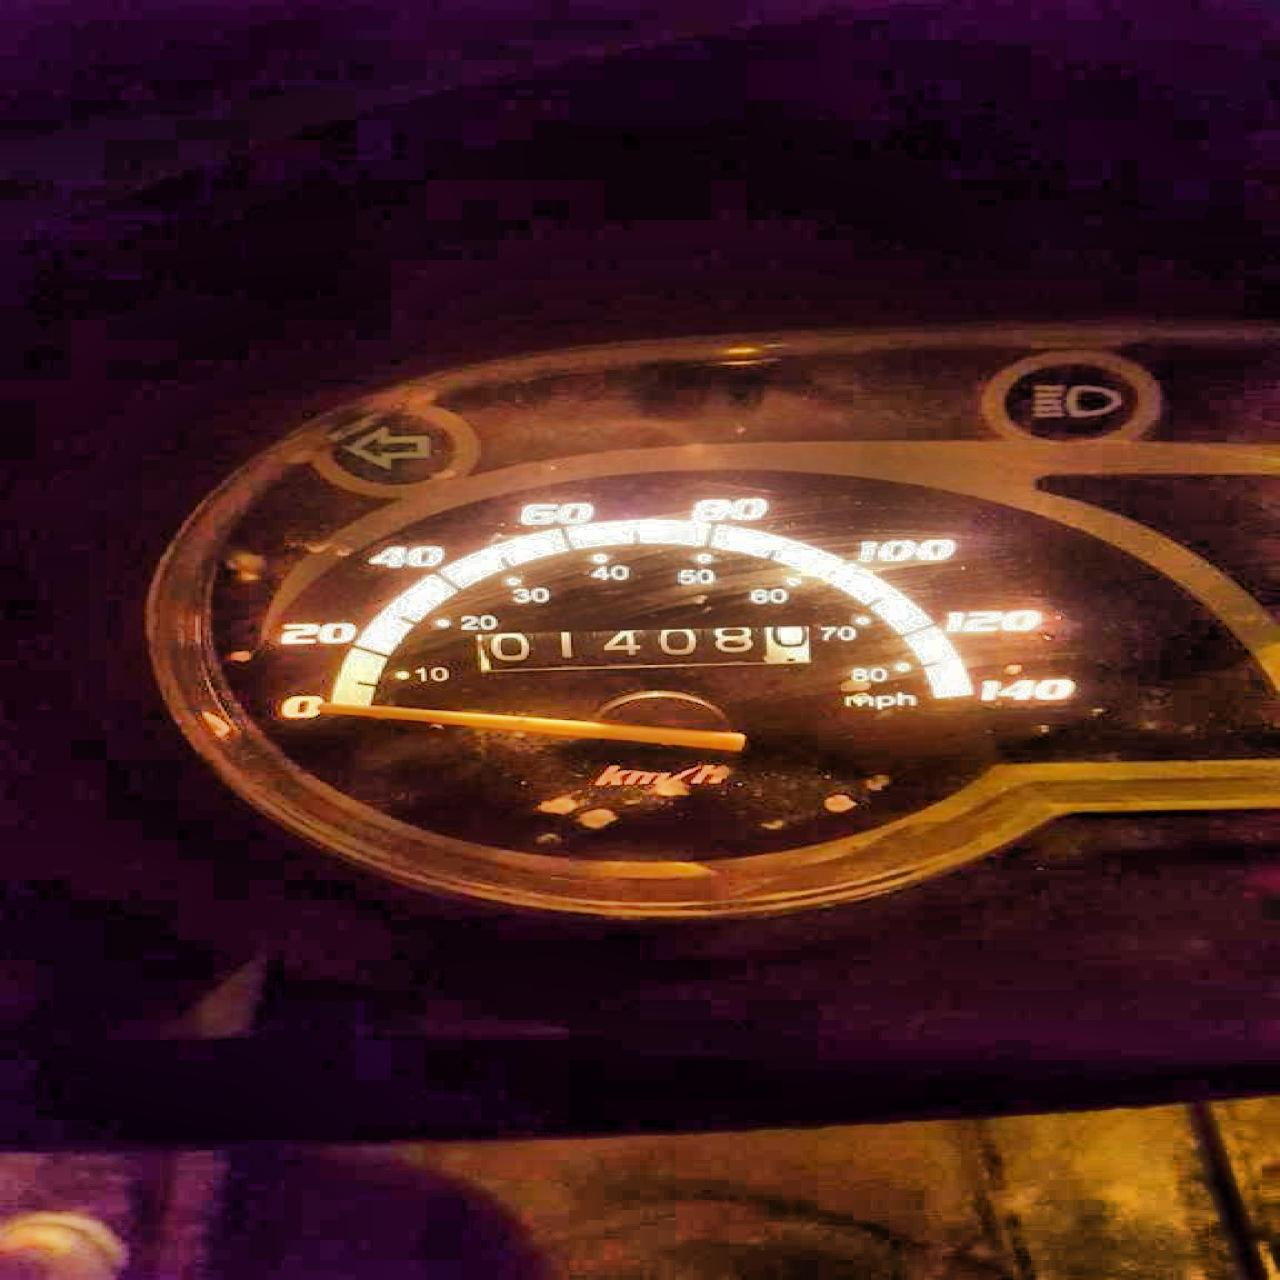0: (651, 626, 700, 658), (484, 631, 533, 660), (767, 624, 811, 648)
1: (553, 628, 580, 660)
4: (600, 629, 645, 659)
8: (709, 625, 755, 656)
odometer: (459, 624, 813, 674)
